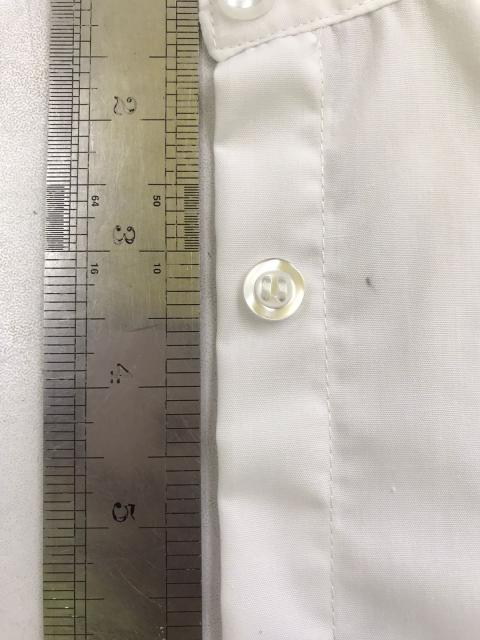Dirty_mark: (360, 274, 376, 295)
